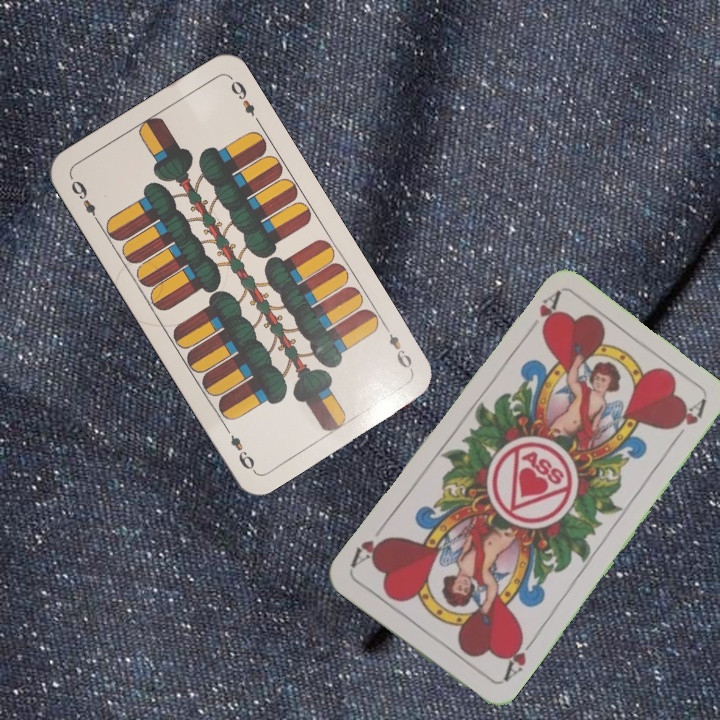E9: (380, 321, 416, 374), (66, 176, 103, 227)
HA: (498, 629, 538, 685), (521, 288, 563, 339)
